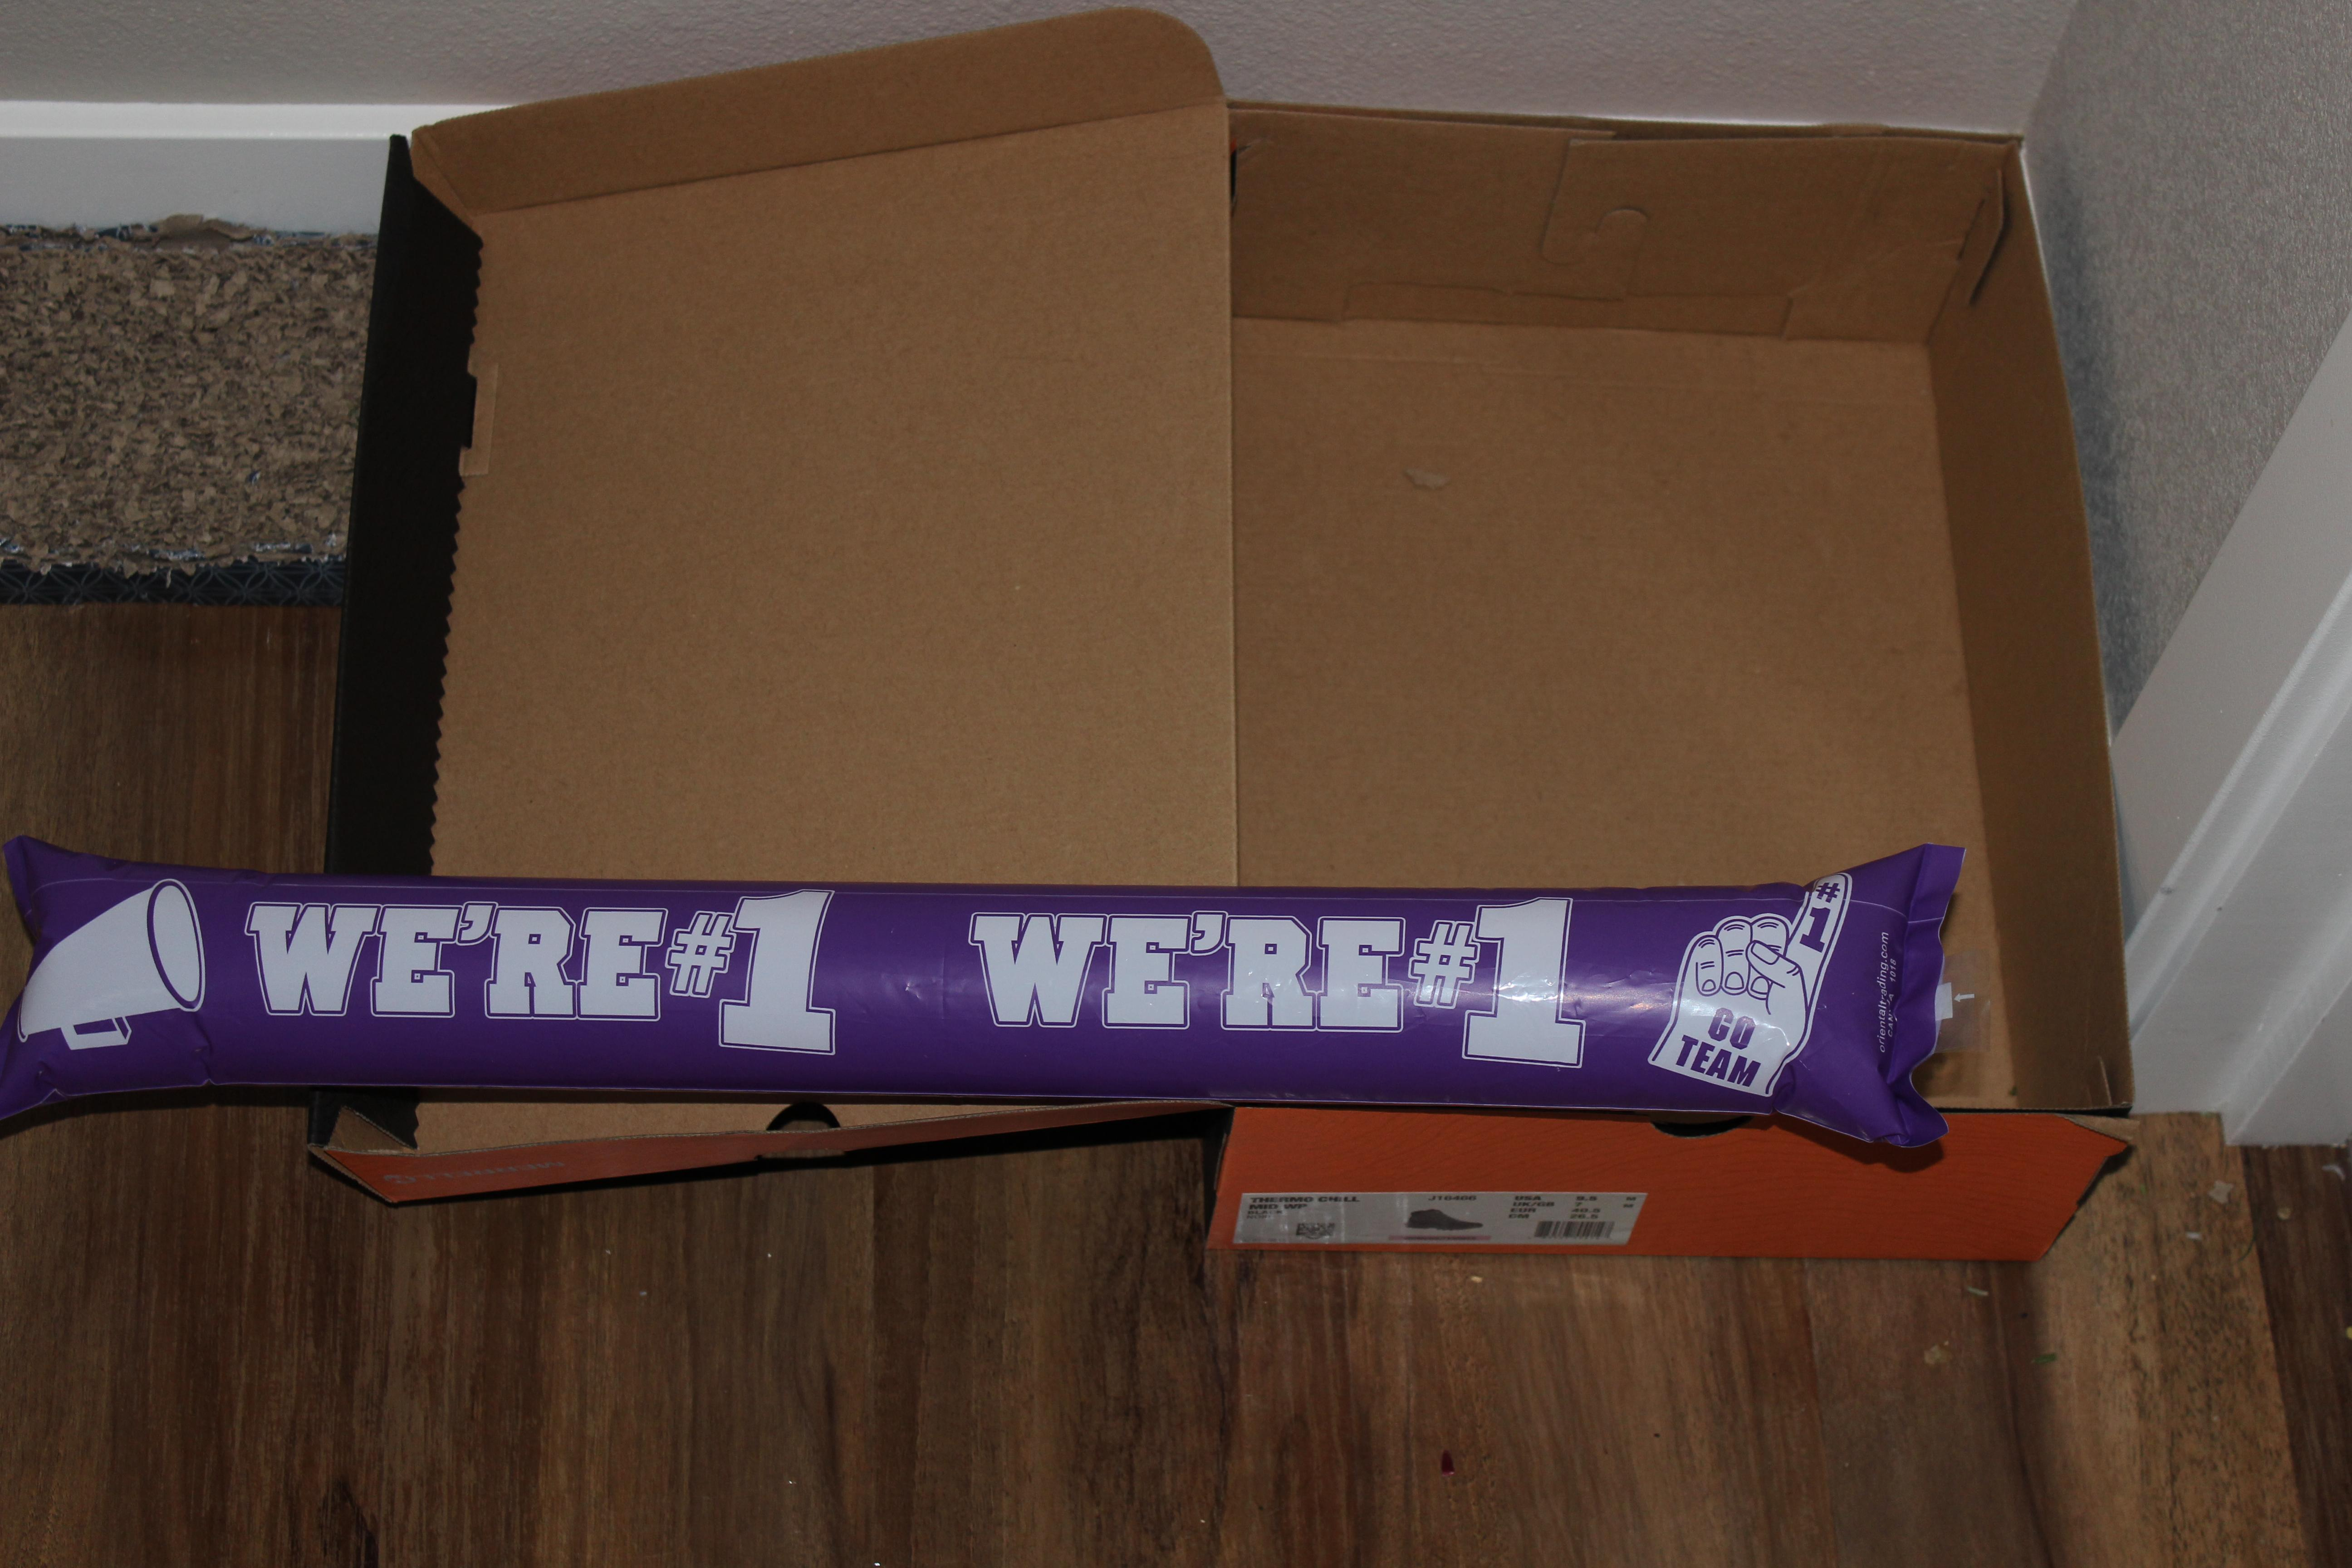noisemaker: (3, 791, 2007, 1200)
